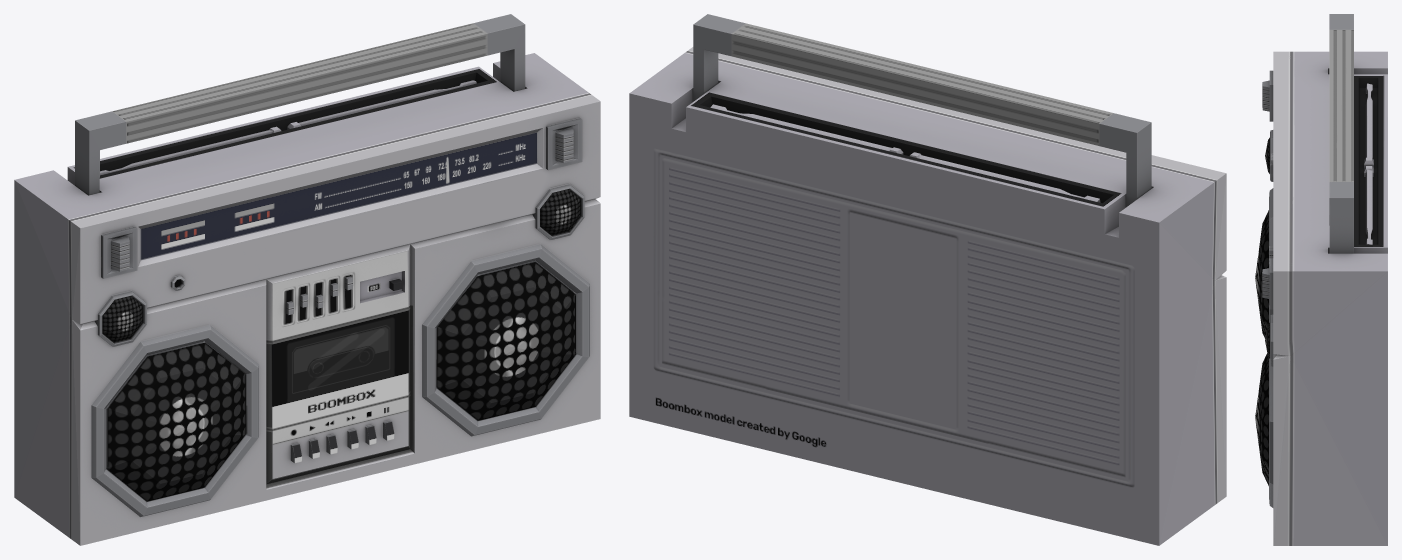
File: boombox.glb
3 renders of one model, left to right at view 1: azimuth 30°, elevation 25°; view 2: azimuth 150°, elevation 25°; view 3: azimuth 270°, elevation 25°, orthographic. The views are drawn at different scales.
Parts seen in each view (by area): view 1: node-0; view 2: node-0; view 3: node-0.
Part boxes in pixels (x1,y1,x2,y2): node-0: (14,14,600,545); node-0: (629,14,1226,545); node-0: (1255,14,1387,545).
Bounding box in the file's own units: 2.63 × 1.84 × 0.6724.
1 material, 1 textured.
